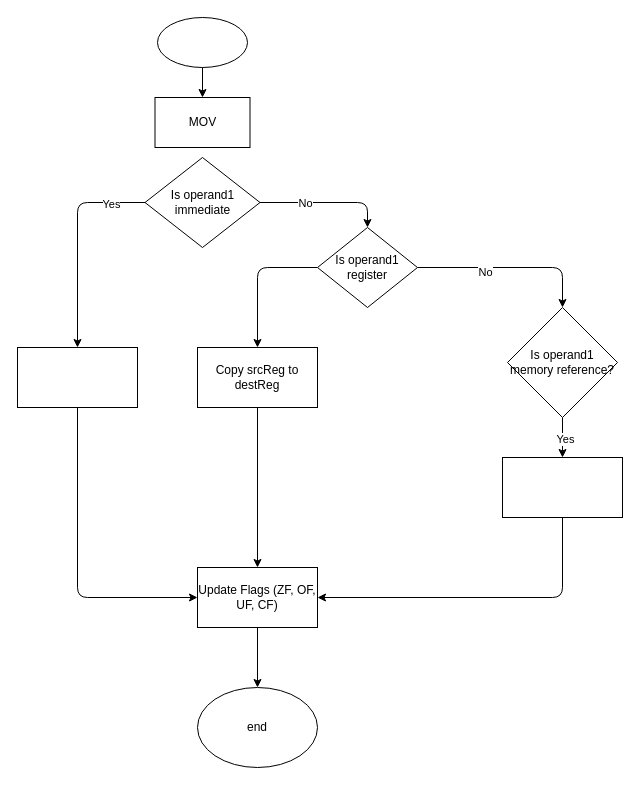
Image size: 640x785. Some labels were removed from this diagram. The shapes that lost their labels are listed below. From the top down, each one's centre as x and y in pixels, then its label:
At (202,42): "start".
At (77,377): "Load immediate value into destReg".
At (562,487): "Load value from memory address/nin register to destReg".
